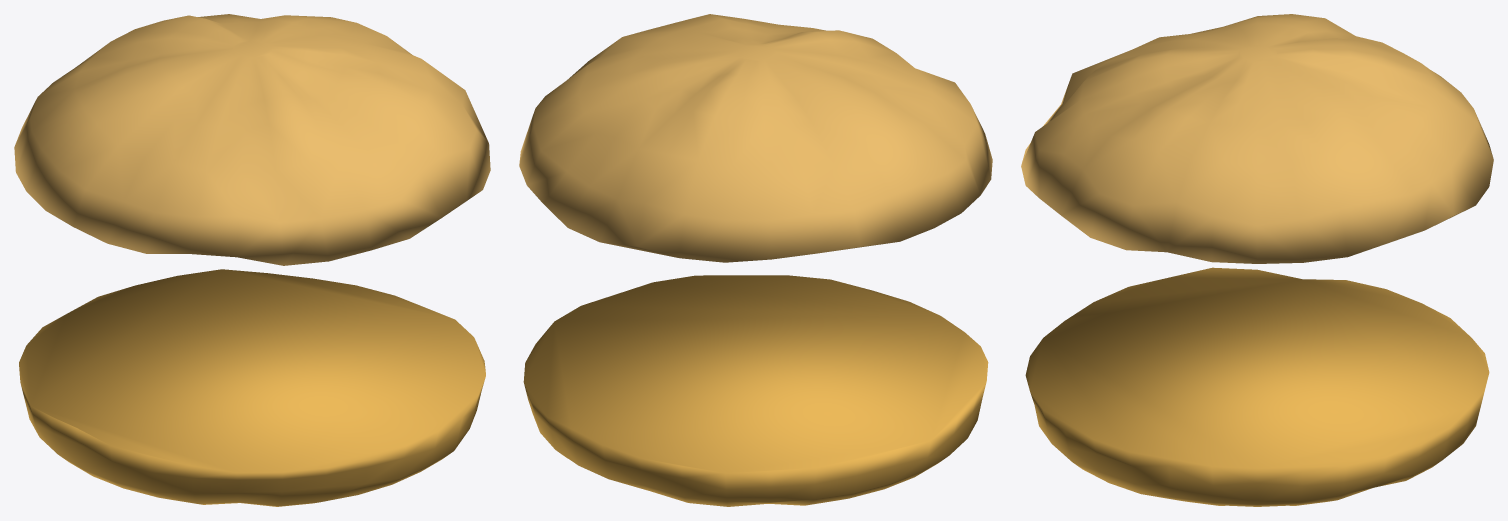
The model's file is pão de hamburguer.fbx.
3 renders of one model, left to right at view 1: azimuth 30°, elevation 25°; view 2: azimuth 150°, elevation 25°; view 3: azimuth 270°, elevation 25°, orthographic.
Parts seen in each view (by area): view 1: Cylinder, Cylinder.001; view 2: Cylinder, Cylinder.001; view 3: Cylinder, Cylinder.001.
Boxes of the visible parts, bbox=[...] form: Cylinder: bbox=[14, 14, 490, 265]; Cylinder.001: bbox=[19, 269, 485, 506]; Cylinder: bbox=[519, 14, 992, 262]; Cylinder.001: bbox=[523, 275, 988, 506]; Cylinder: bbox=[1021, 14, 1493, 263]; Cylinder.001: bbox=[1025, 267, 1489, 506].
Size of the model in its own units: 389 by 346 by 389.
